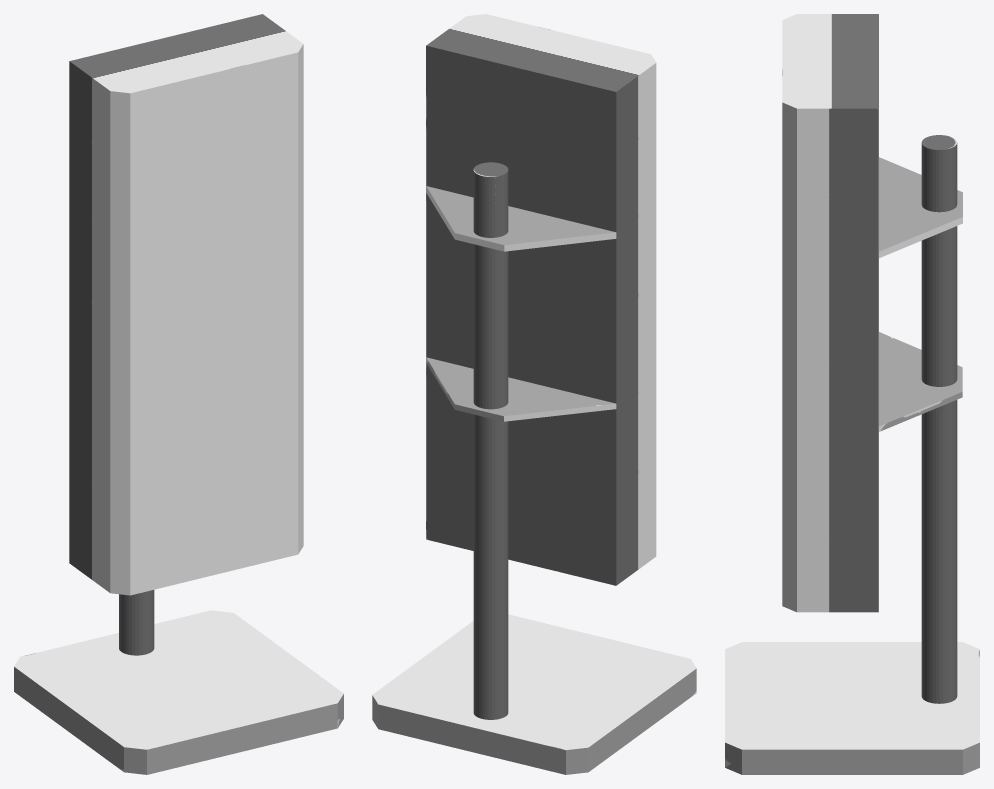
The model's file is ericssonradiounit.fbx.
3 views of the same model, side by side, from view 1: azimuth 30°, elevation 25°; view 2: azimuth 150°, elevation 25°; view 3: azimuth 270°, elevation 25° (orthographic). The views are drawn at different scales.
Visible parts, largest first — view 1: Plane; view 2: Plane; view 3: Plane.
Part boxes in pixels (x1,y1,x2,y2): Plane: (14, 14, 343, 774); Plane: (372, 14, 696, 774); Plane: (725, 14, 979, 774).
Size of the model in its own units: 228 by 650 by 228.
